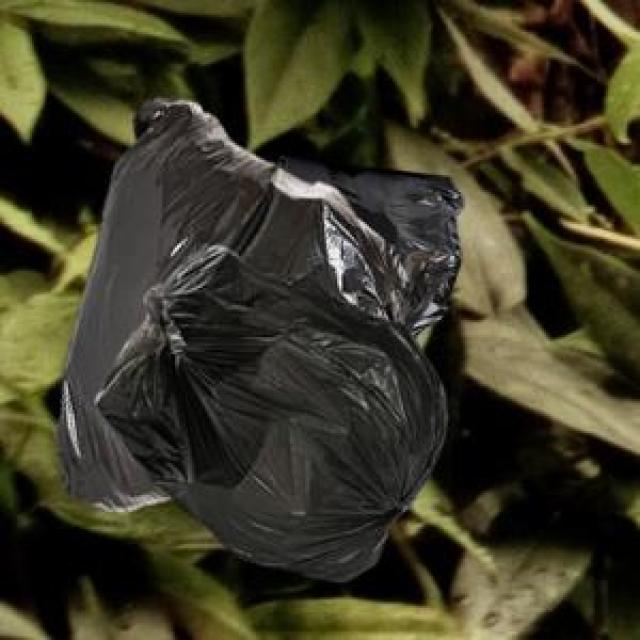waste: (59, 104, 459, 581)
